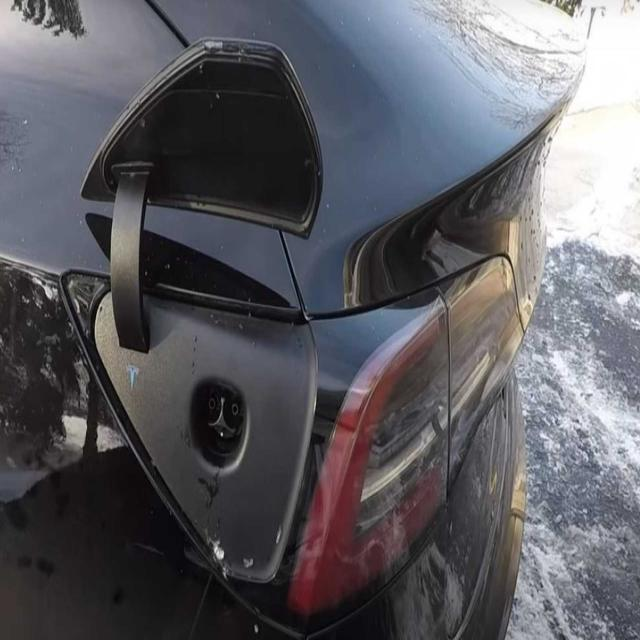Tesla Model-S-: (170, 359, 270, 497)
